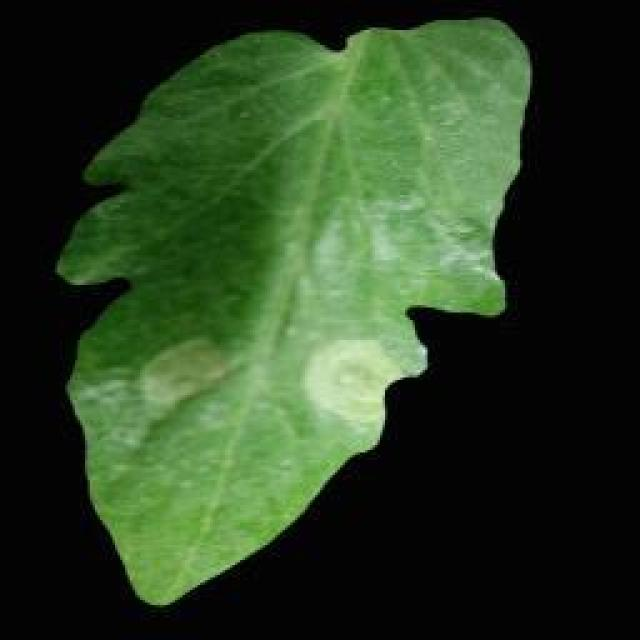Tomato Late Blight: (192, 103, 490, 450)
